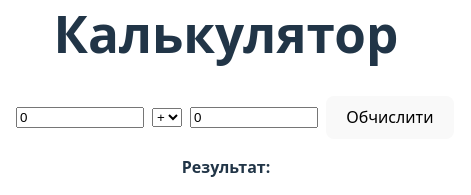
Test case: Calculator UI › multiply
Replace the text in the number field named "Перше число" with "6" at (80, 118), box top-left (16, 107), bottom-right (144, 128)
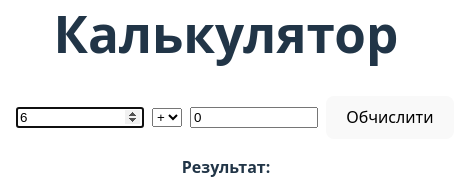
Replace the text in the number field named "Друге число" with "7" at (254, 118), box top-left (190, 107), bottom-right (318, 128)
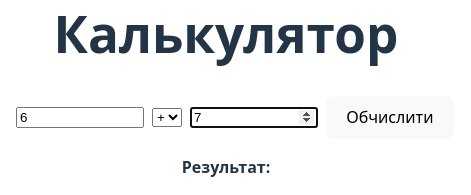
Select "×" in the dropdown named "Операція" at (167, 118), box top-left (152, 108), bottom-right (182, 127)
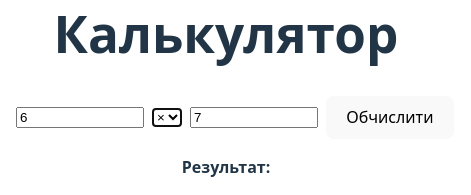
Click the button "Обчислити" at (390, 118), box top-left (326, 96), bottom-right (454, 139)
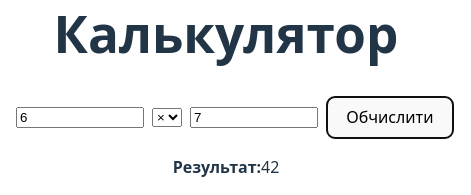
Now the text "42" is shown, box top-left (261, 156), bottom-right (279, 178)
